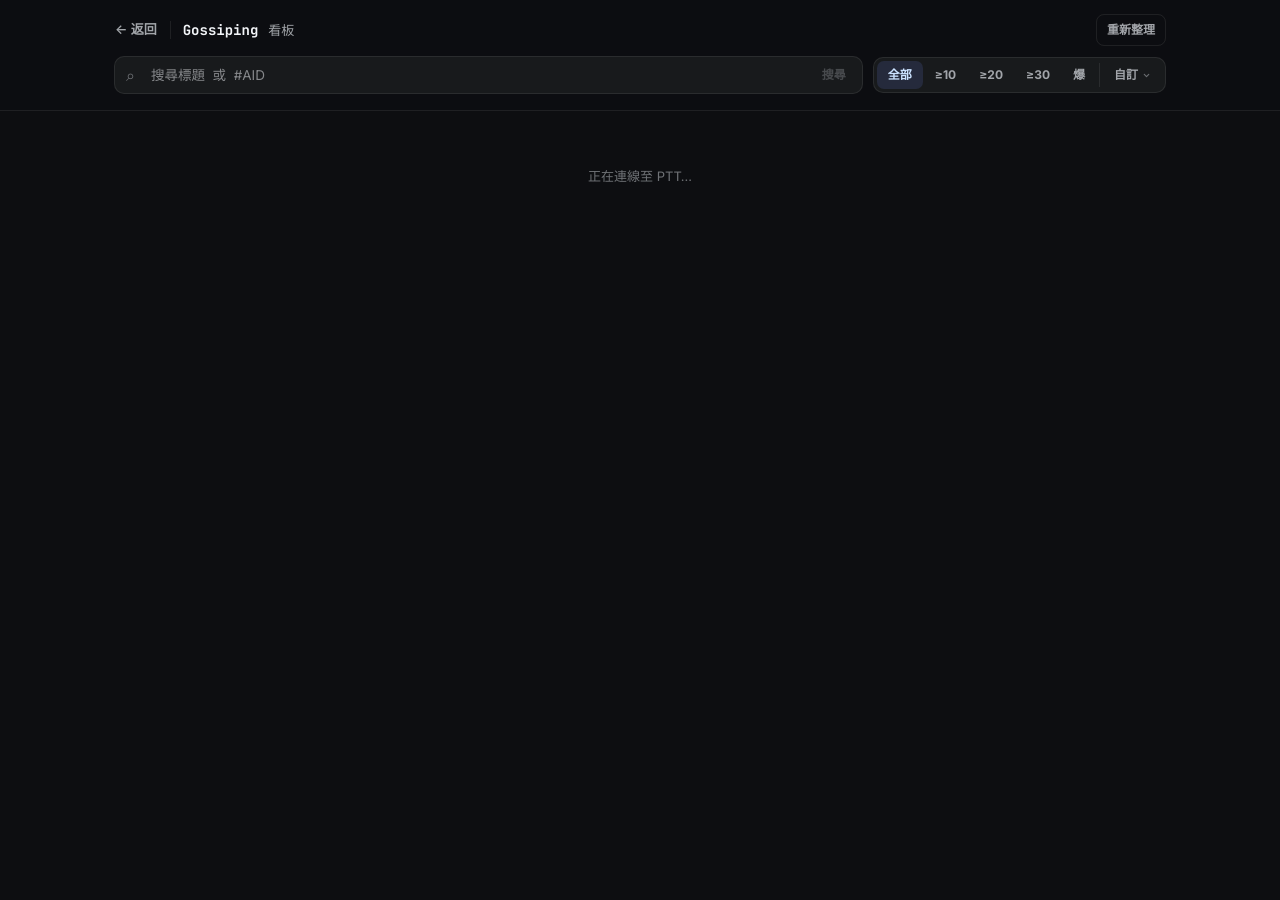
Test case: ArticleList › uses rubber-band resistance while revealing the pull refresh gap
The image size is (1280, 900).
Press the mouse on the element showing "← 返回 Gossiping 看板 重新整理 ⌕ 搜尋 全部 ≥10 ≥20 ≥30 爆 自訂 正在連線至 PTT…": (640, 450) [0, 0, 1279, 899]
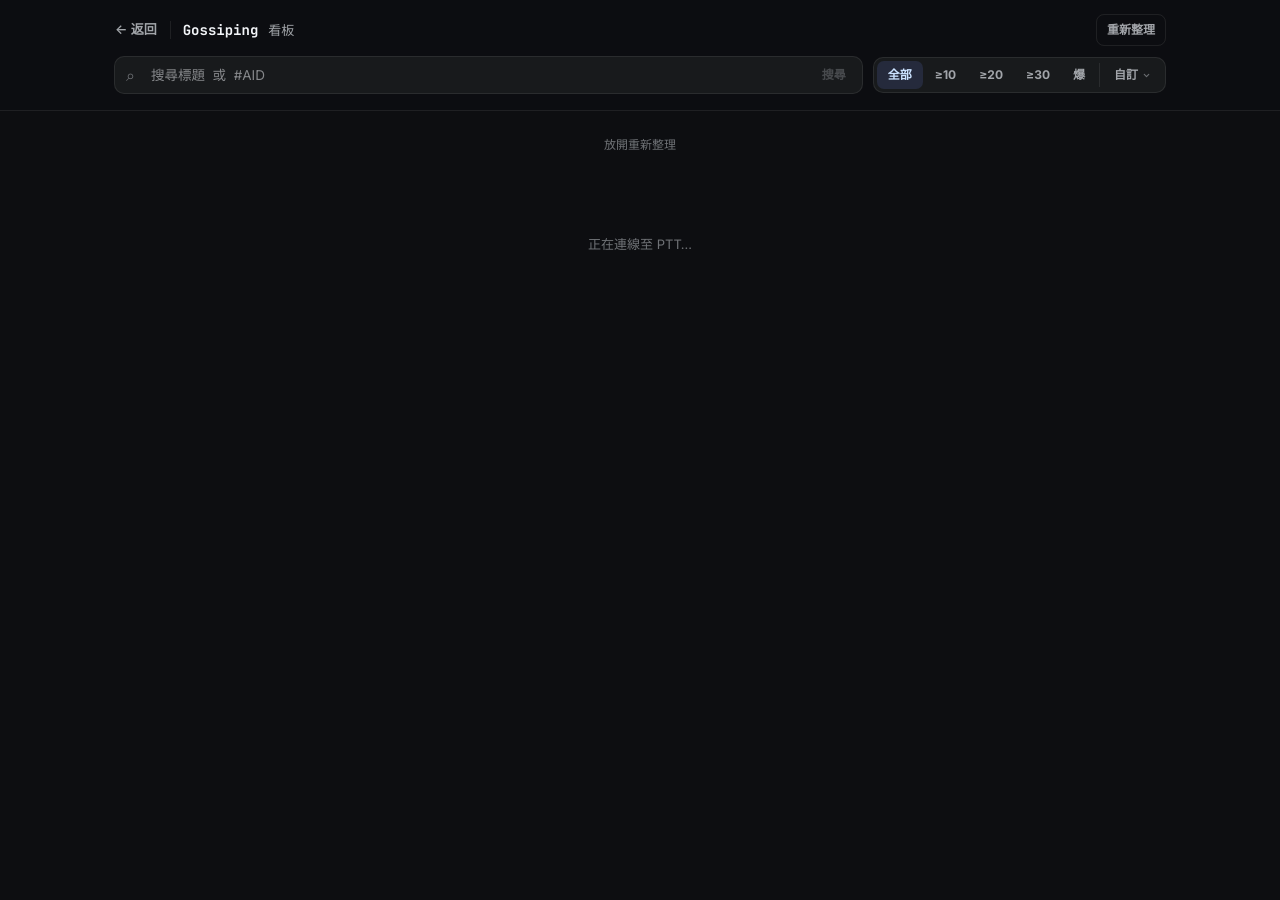
Now the text "放開重新整理" is shown, box [604, 137, 676, 152]
